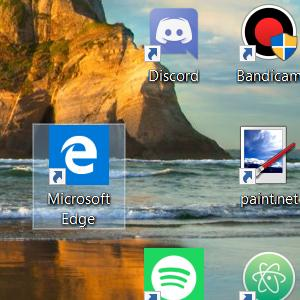edge: (48, 125, 108, 185)
